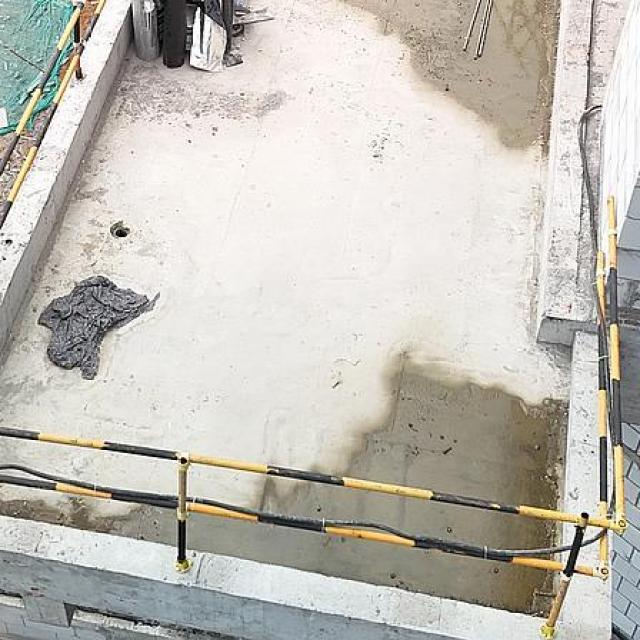edge_guardrail: (1, 194, 629, 636), (0, 0, 107, 230)
